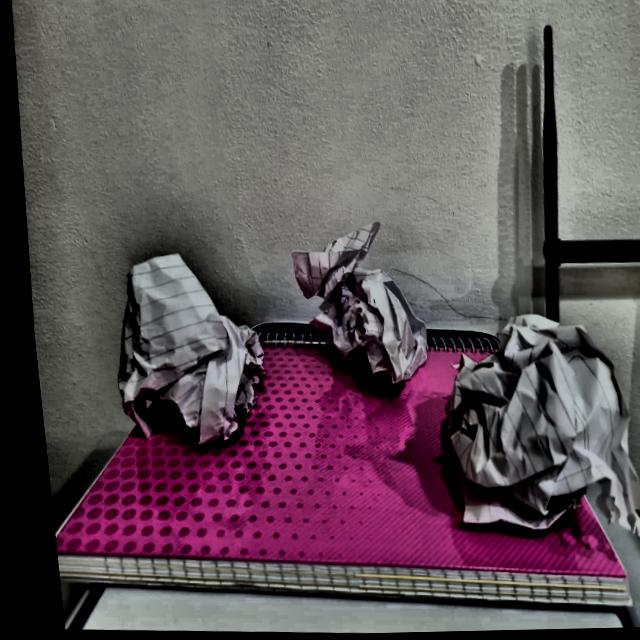Paper: (434, 310, 627, 525), (104, 255, 258, 435), (278, 238, 430, 378)
